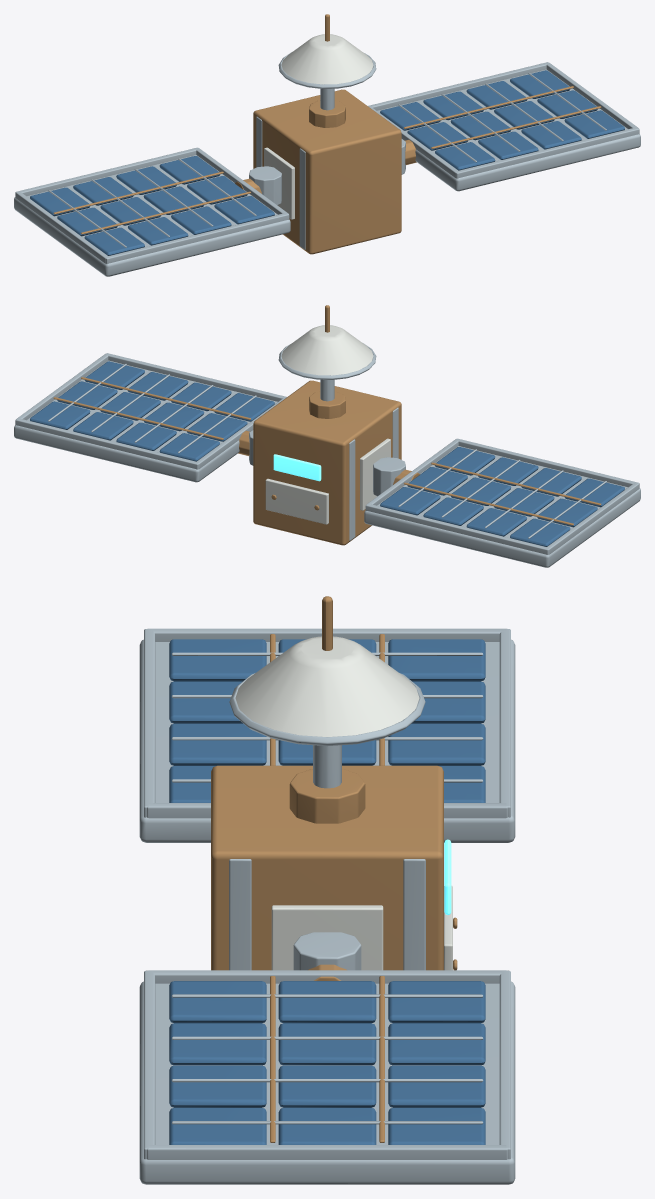
Rendered from solar-satellite.glb.
3 views of the same model, one above another, from view 1: azimuth 30°, elevation 25°; view 2: azimuth 150°, elevation 25°; view 3: azimuth 270°, elevation 25° (orthographic). The views are drawn at different scales.
Visible parts, largest first — view 1: solar-satellite; view 2: solar-satellite; view 3: solar-satellite.
Boxes of the visible parts, box(x1,y1,x2,y2) form: solar-satellite: box(14, 14, 640, 276); solar-satellite: box(14, 305, 640, 567); solar-satellite: box(139, 596, 515, 1184).
Bounding box in the file's own units: 1.88 × 0.7029 × 0.5724.
